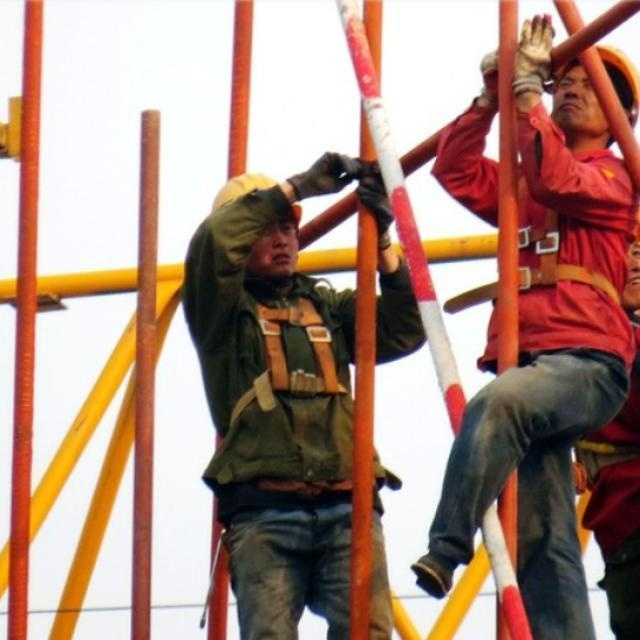Arnes_seguridad: (216, 283, 355, 424), (511, 150, 631, 306)
